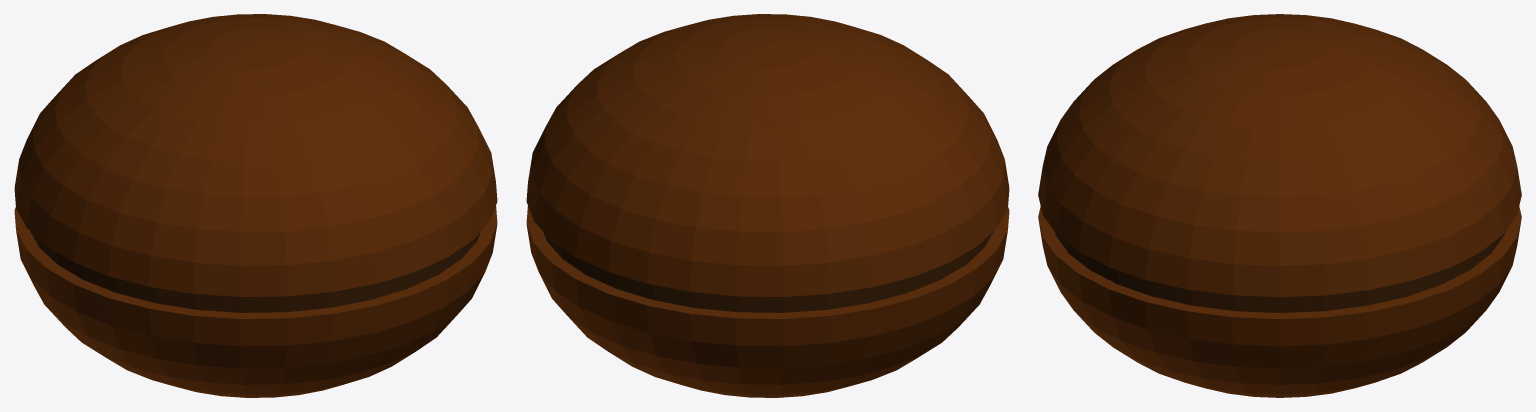
The model's file is Makaron.fbx.
3 views of the same model, side by side, from view 1: azimuth 30°, elevation 25°; view 2: azimuth 150°, elevation 25°; view 3: azimuth 270°, elevation 25° (orthographic).
Parts seen in each view (by area): view 1: Sphere, Sphere.001; view 2: Sphere, Sphere.001; view 3: Sphere, Sphere.001.
Part boxes in pixels (box(x1,y1,x2,y2)): Sphere: box(14, 14, 497, 318); Sphere.001: box(16, 225, 497, 397); Sphere: box(526, 14, 1009, 318); Sphere.001: box(526, 225, 1007, 397); Sphere: box(1038, 14, 1521, 318); Sphere.001: box(1038, 220, 1521, 397).
Bounding box in the file's own units: 200 × 146 × 200.
